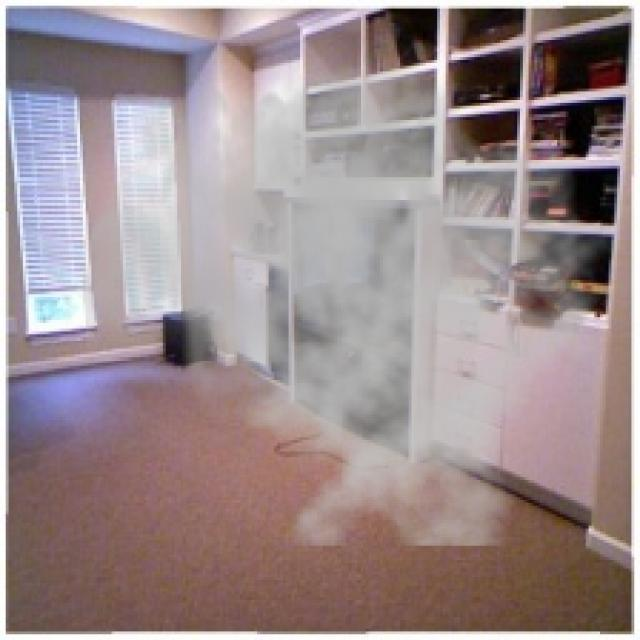smoke: (80, 14, 617, 546)
